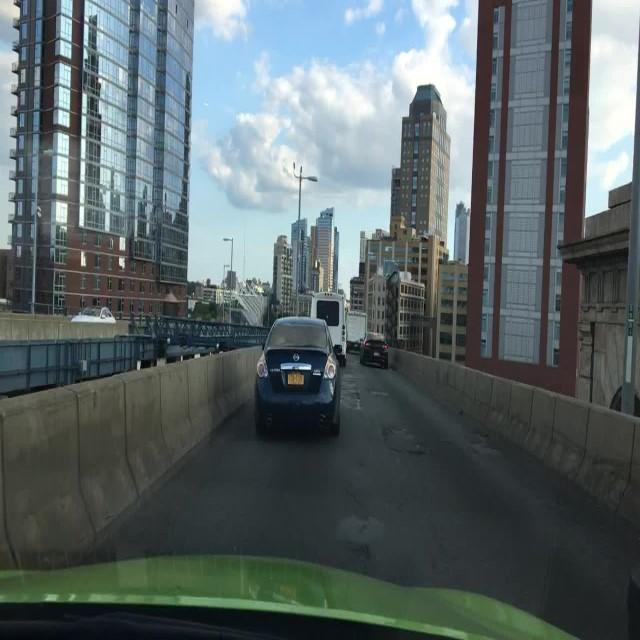normal: (252, 314, 342, 437), (361, 335, 390, 369), (70, 307, 116, 324)
